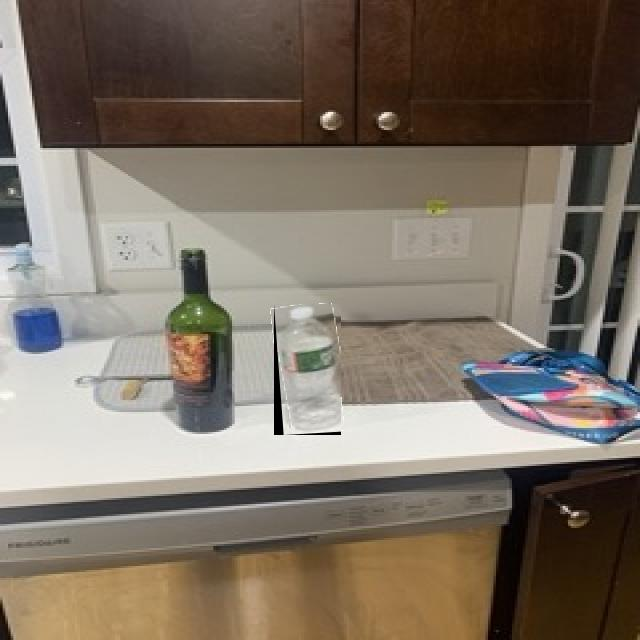water_bottle: (274, 304, 341, 435)
